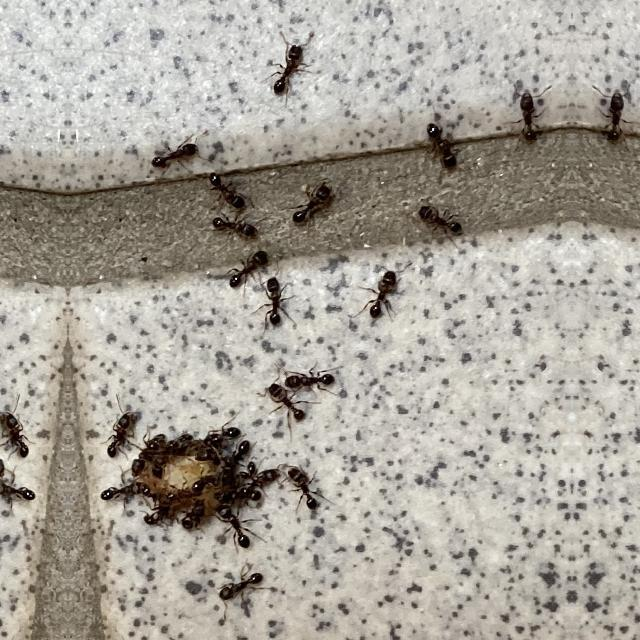Tetramorium: (256, 36, 324, 100), (356, 260, 412, 326), (260, 374, 312, 432), (408, 192, 466, 242), (142, 132, 200, 178), (280, 177, 334, 225), (418, 116, 464, 172), (196, 162, 244, 215), (254, 268, 294, 330), (224, 242, 266, 298), (122, 428, 170, 477), (212, 507, 266, 548), (95, 406, 141, 454), (210, 569, 262, 611), (511, 82, 542, 142), (96, 472, 150, 506), (0, 406, 38, 454), (602, 82, 632, 142), (143, 438, 183, 482), (207, 214, 265, 243), (292, 452, 320, 512), (210, 432, 256, 466), (140, 492, 176, 534), (287, 368, 337, 397), (160, 473, 207, 502), (242, 464, 280, 498), (212, 484, 264, 508), (198, 414, 242, 442), (0, 472, 38, 504), (189, 464, 233, 488), (238, 453, 262, 495), (179, 498, 209, 530), (0, 426, 12, 476)
